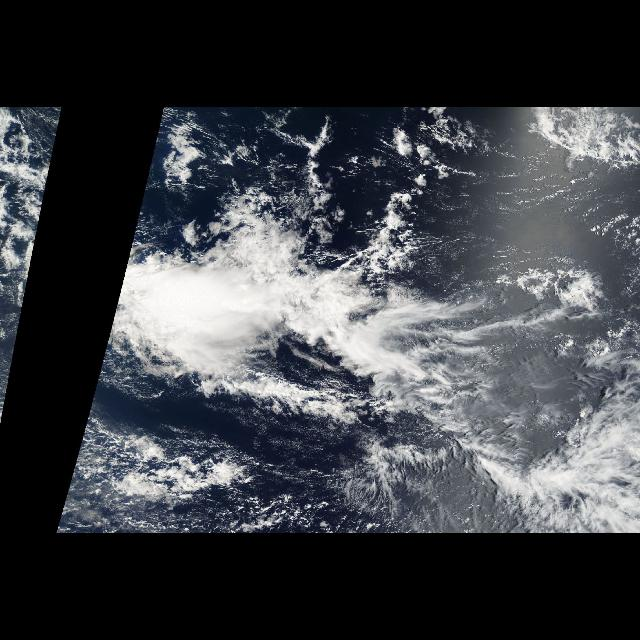Fish: (72, 181, 566, 473), (12, 182, 48, 358)
Sugar: (440, 172, 602, 264)
